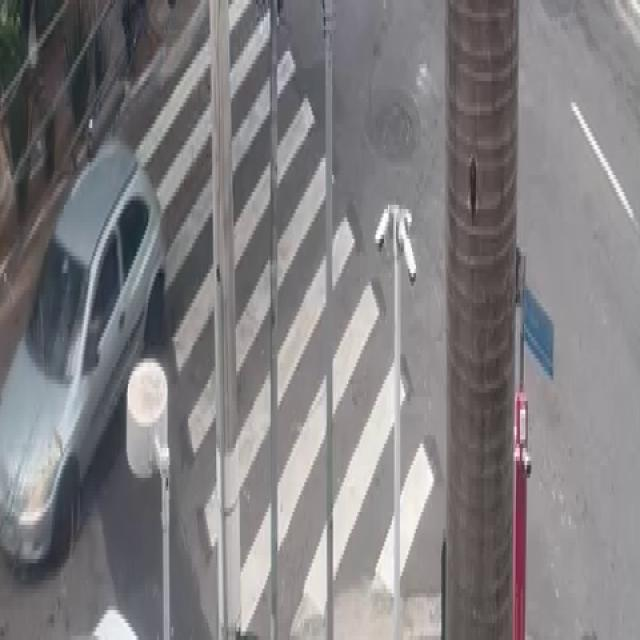car: (0, 128, 170, 566)
